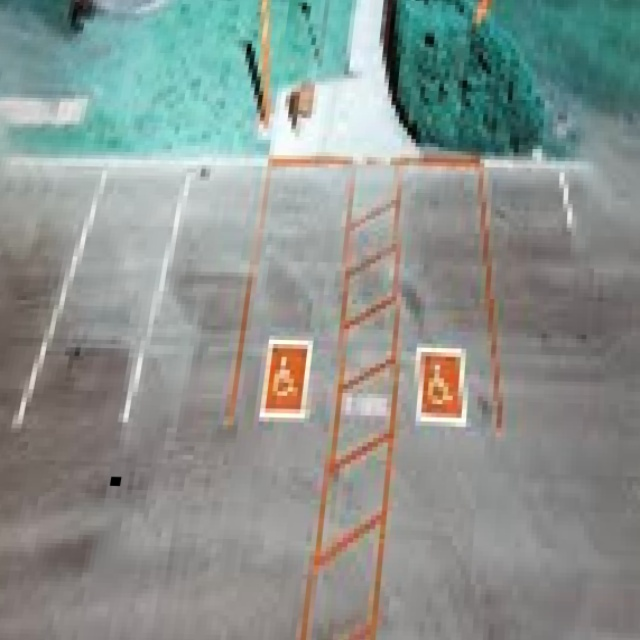ISA: (260, 340, 306, 412), (417, 348, 460, 417)
